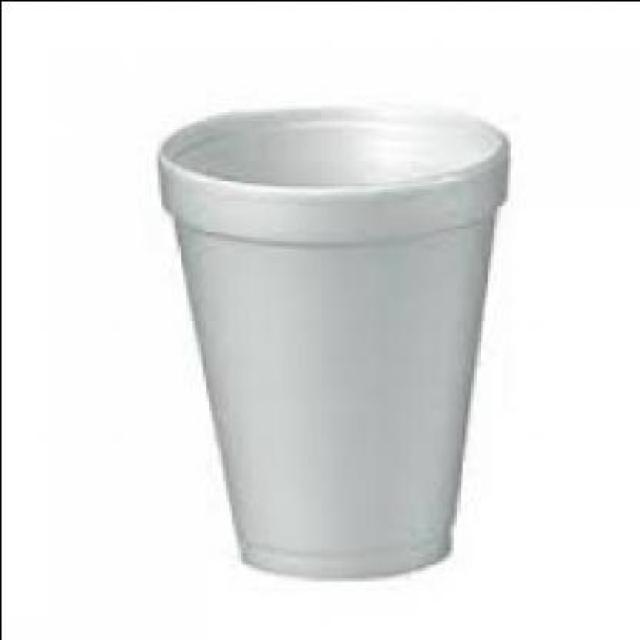PAPER: (154, 103, 509, 572)
